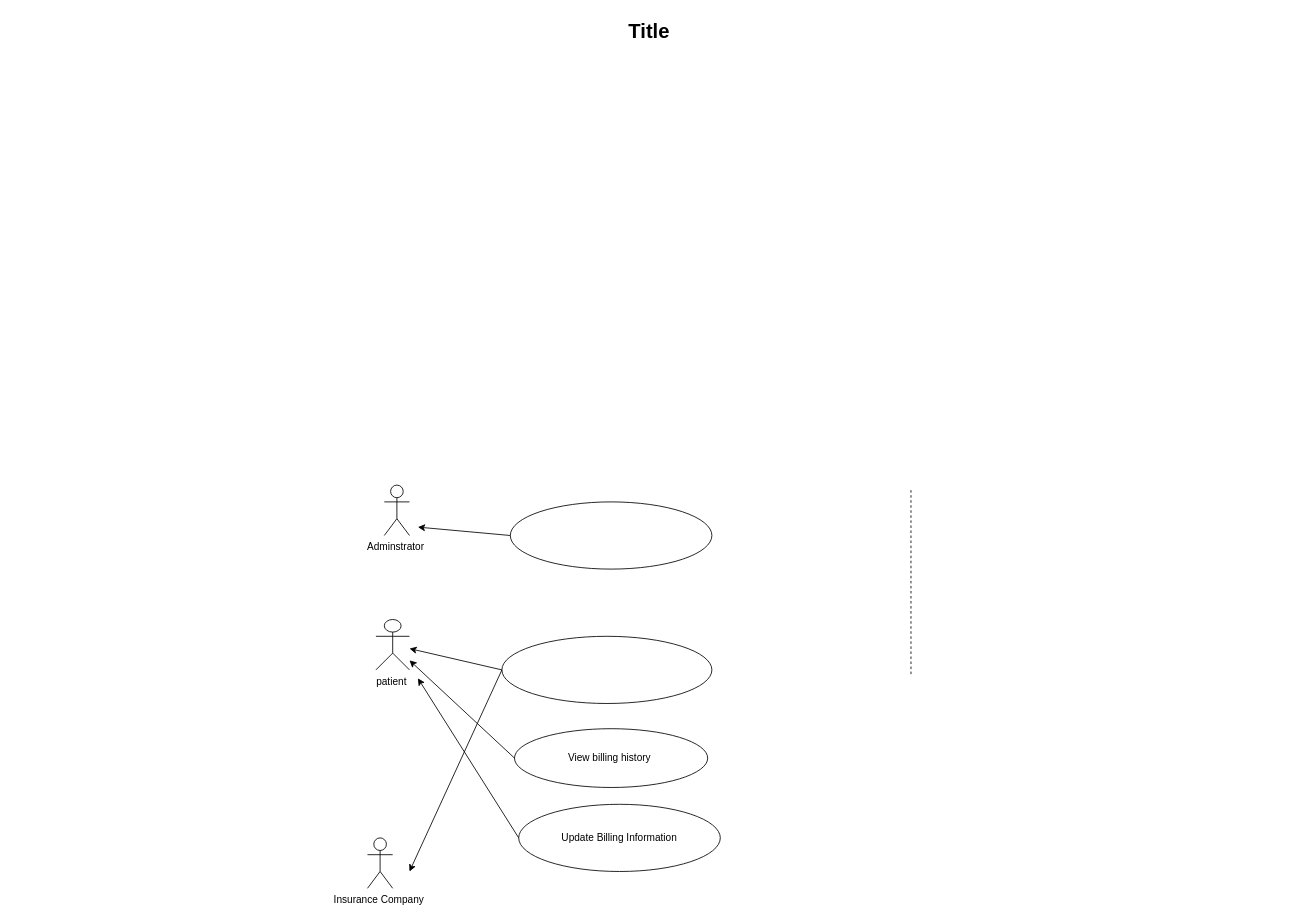
This 1297x920 diagram has some shape labels left out. Here are the shapes that lost their labels. From the top down, the centre of each, then its label:
At (x=610, y=535): "Generate Bill".
At (x=606, y=669): "Process Payment".
